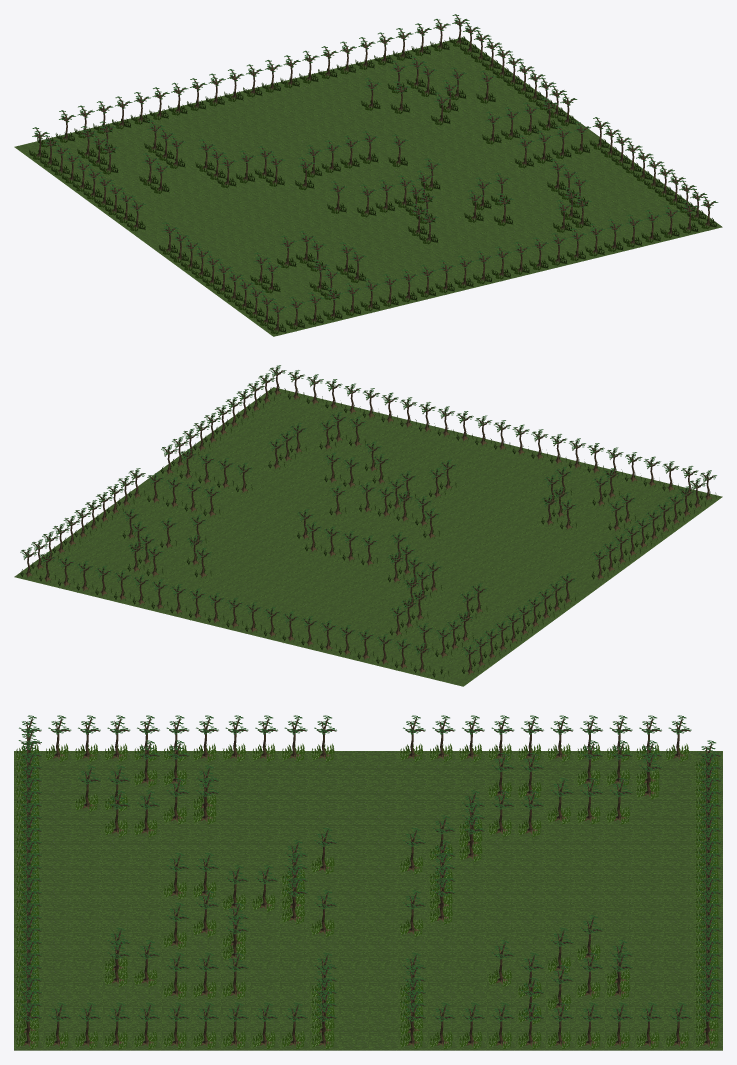
The model's file is forest2.fbx.
3 views of the same model, one above another, from view 1: azimuth 30°, elevation 25°; view 2: azimuth 150°, elevation 25°; view 3: azimuth 270°, elevation 25° (orthographic). The views are drawn at different scales.
Visible parts, largest first — view 1: Base; view 2: Base; view 3: Base.
Boxes of the visible parts, x1,y1,x2,y2 form: Base: (14, 37, 722, 336); Base: (14, 387, 722, 686); Base: (14, 751, 722, 1050).
Bounding box in the file's own units: 4800 × 316 × 4800.
3 materials, 3 textured.
